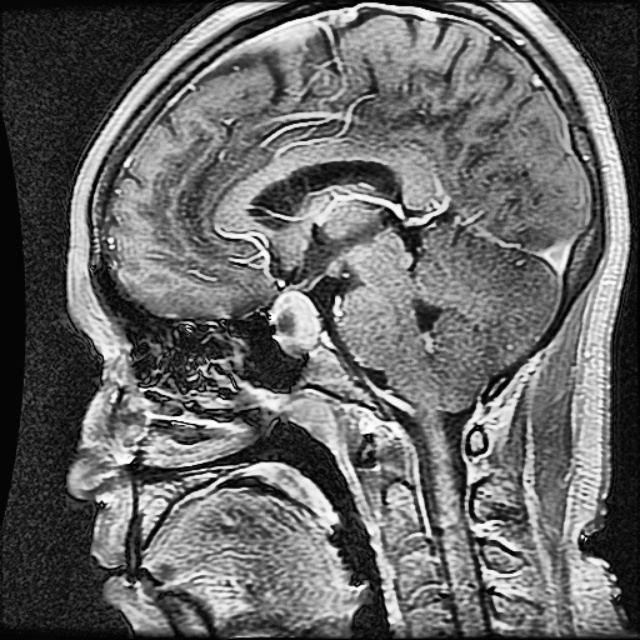Pituitary: (269, 292, 320, 352)
